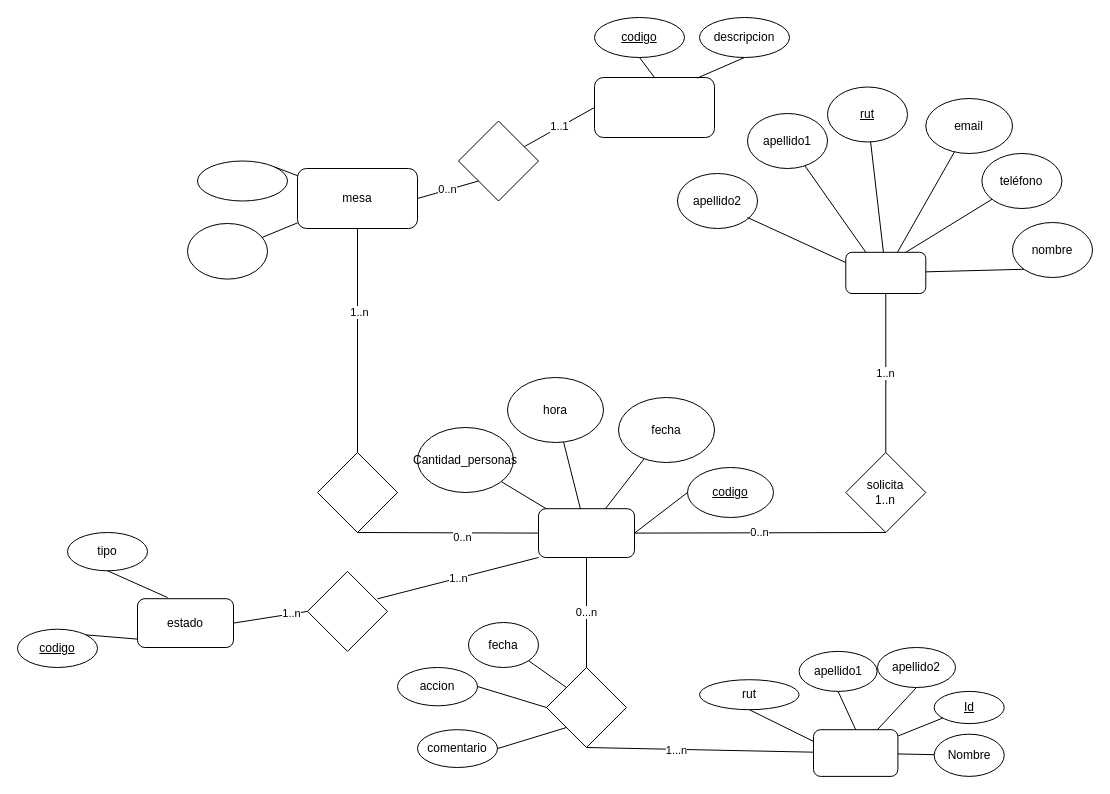
This 1110x794 diagram has some shape labels left out. The shapes that lost their labels are listed below. From the top down, each one's box as (x1, y1, x2, y2) in pixels, then its label:
(594, 76, 714, 138): ubicacion
(196, 160, 288, 201): numero
(458, 120, 538, 201): tiene 1..n
(186, 222, 268, 279): capacidad
(845, 251, 926, 294): Cliente
(316, 452, 398, 532): incluye n...n
(538, 508, 634, 558): Reserva
(306, 570, 388, 651): tiene n...n
(546, 666, 626, 748): coordina n...n
(812, 729, 898, 776): Recepcionista
